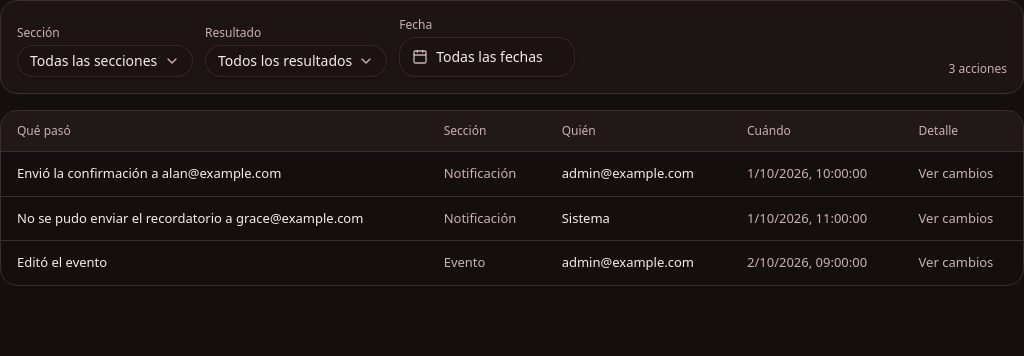
EventAuditLogTable › expands a change into readable field updates without raw JSON
This screenshot has width=1024, height=356.
Click the row that starts with "Editó el evento": {"x": 512, "y": 262} [1,240,1023,284]
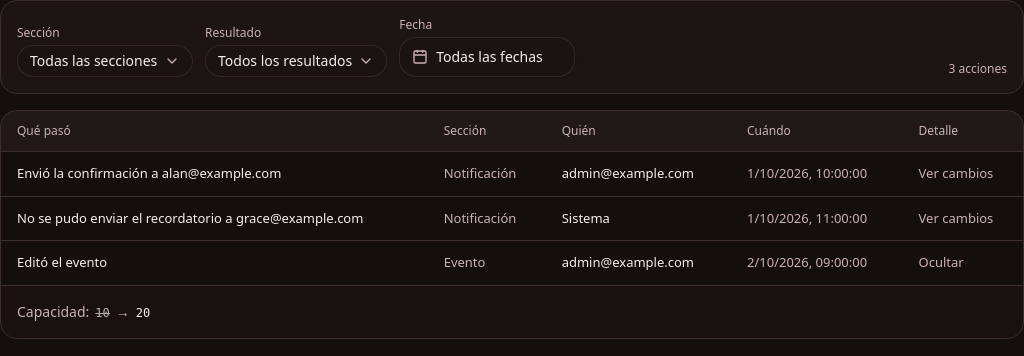
Check: the text "10" is shown, box [747,164,867,182]
Check: the text "Capacidad:" is shown, box [17,302,89,322]
